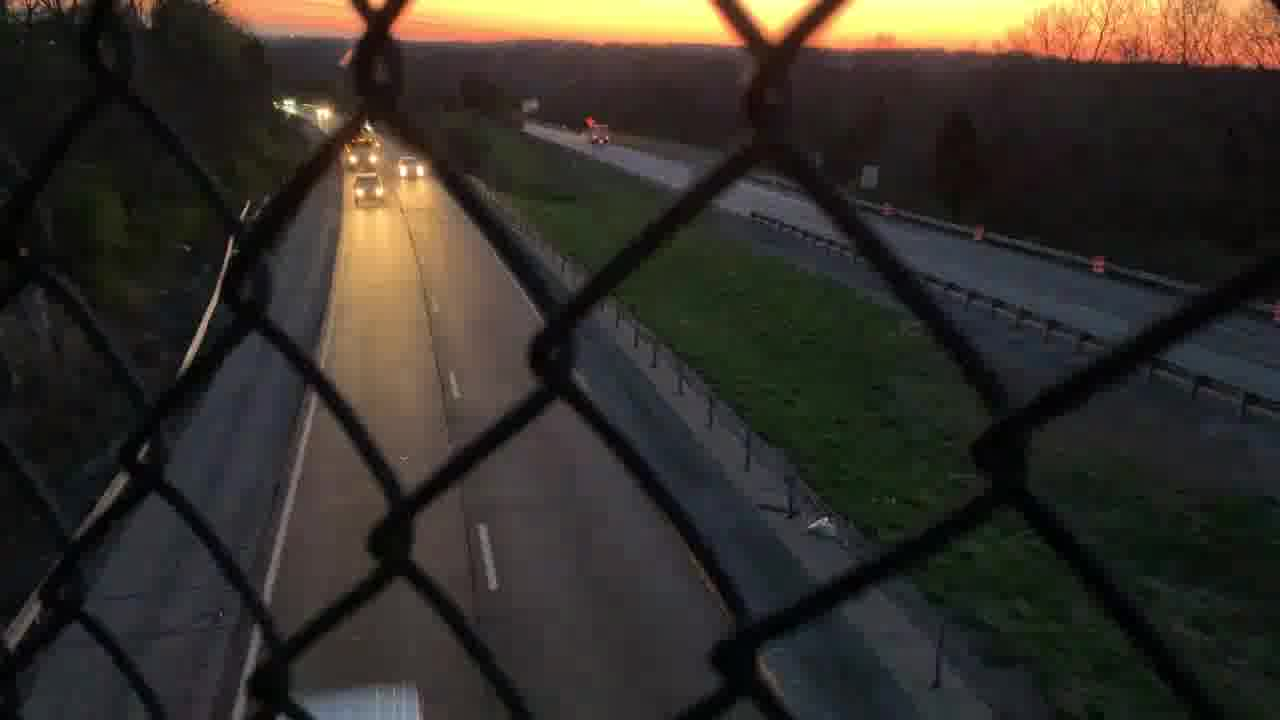largeCar: (352, 173, 387, 206)
smallCar: (396, 155, 427, 182)
